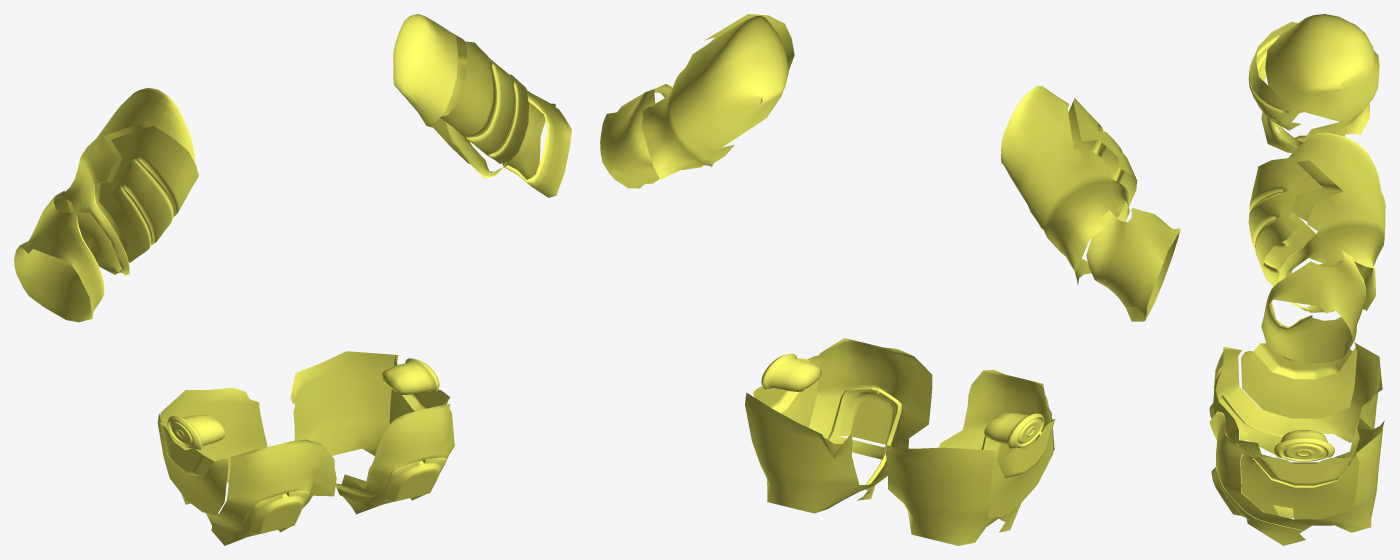
The model's file is ironman2.obj.
The picture shows the model from 3 angles, left to right: view 1: azimuth 30°, elevation 25°; view 2: azimuth 150°, elevation 25°; view 3: azimuth 270°, elevation 25°; orthographic projection. The views are drawn at different scales.
Visible parts, largest first — view 1: polySurface67; view 2: polySurface67; view 3: polySurface67.
Part boxes in pixels (x1,y1,x2,y2): polySurface67: (14,14,571,545); polySurface67: (600,14,1180,545); polySurface67: (1209,14,1385,545).
Size of the model in its own units: 0.3507 by 0.2855 by 0.1062.
